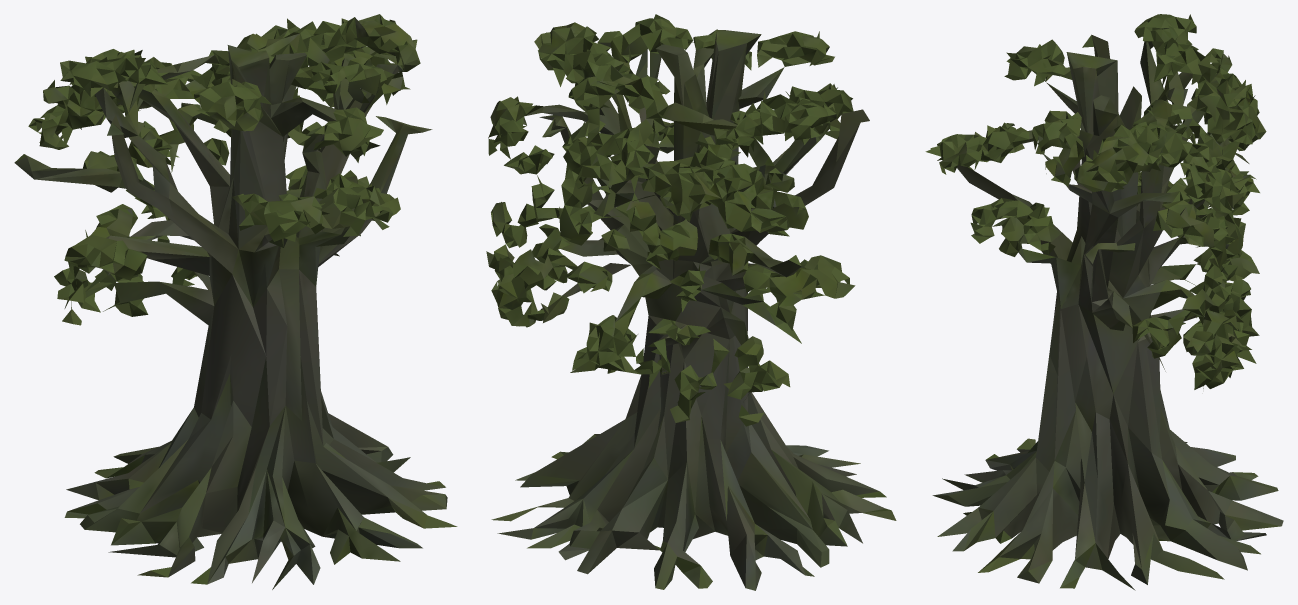
The model's file is scene_giant_tree.glb.
The picture shows the model from 3 angles, left to right: view 1: azimuth 30°, elevation 25°; view 2: azimuth 150°, elevation 25°; view 3: azimuth 270°, elevation 25°; orthographic projection. The views are drawn at different scales.
Bounding box in the file's own units: 1.44 × 1.9 × 1.39.
1 material, 1 textured.
